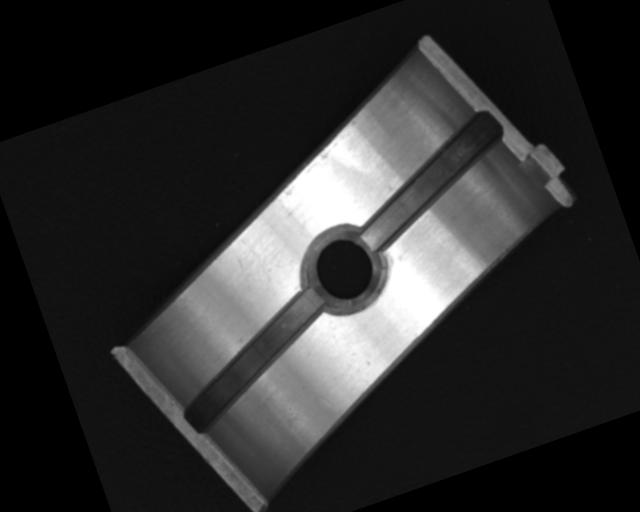gap: (158, 283, 348, 436), (336, 107, 523, 254)
hole: (295, 215, 392, 324)
